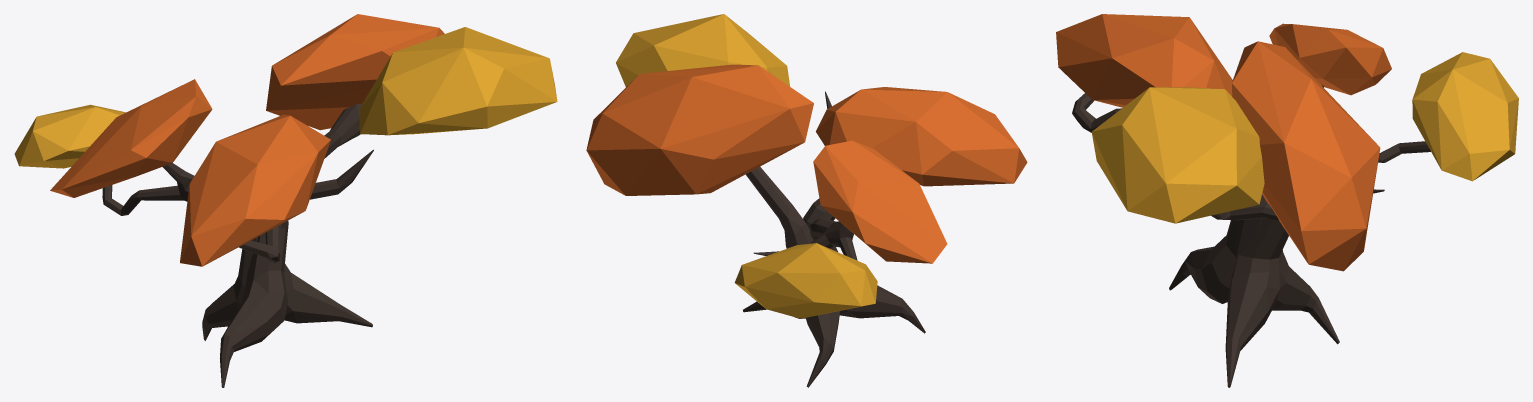
Rendered from Tree_2_Autumn.fbx.
3 renders of one model, left to right at view 1: azimuth 30°, elevation 25°; view 2: azimuth 150°, elevation 25°; view 3: azimuth 270°, elevation 25°, orthographic. The views are drawn at different scales.
Parts seen in each view (by area): view 1: Tree_2_Autumn; view 2: Tree_2_Autumn; view 3: Tree_2_Autumn.
Part boxes in pixels (box(x1,y1,x2,y2)): Tree_2_Autumn: box(14, 14, 557, 387); Tree_2_Autumn: box(586, 14, 1027, 387); Tree_2_Autumn: box(1056, 14, 1518, 387).
Size of the model in its own units: 954 by 664 by 785.
